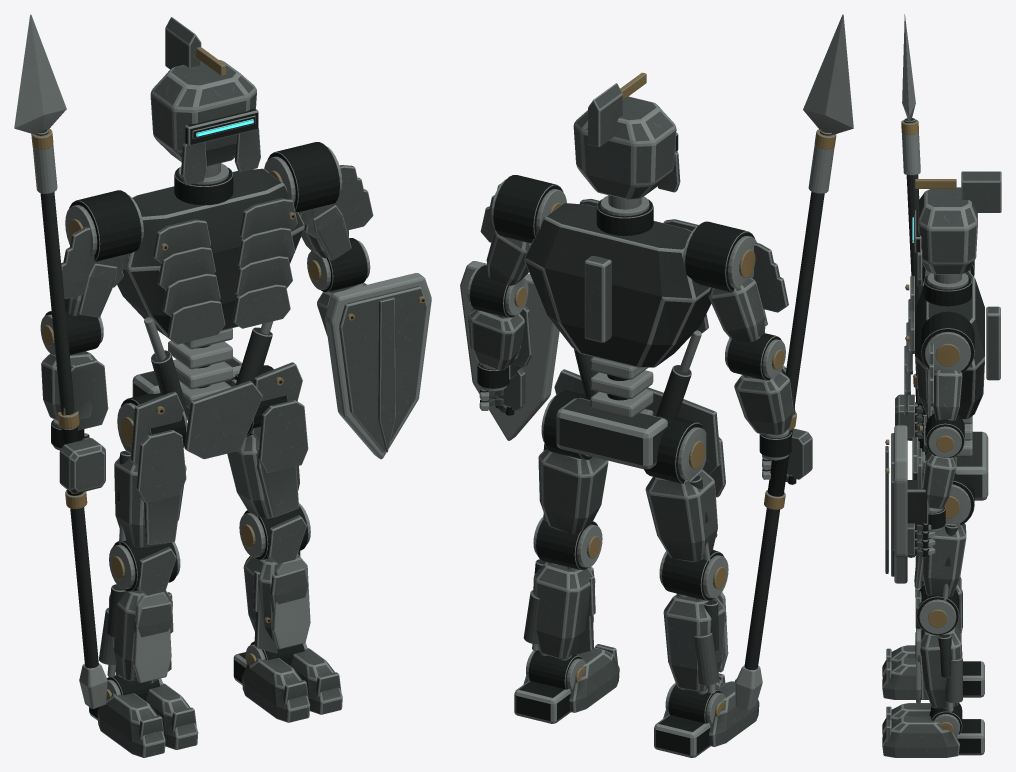
File: speed-t4-legion.glb
The picture shows the model from 3 angles, left to right: view 1: azimuth 30°, elevation 25°; view 2: azimuth 150°, elevation 25°; view 3: azimuth 270°, elevation 25°; orthographic projection. The views are drawn at different scales.
Visible parts, largest first — view 1: chest__clay, weaponR__metal, chest__metal, shieldL__clay, head__clay, pelvis__metal, pelvis__clay, hipR__clay, hipL__clay, ankleL__clay, ankleR__clay, kneeR__clay (+15 smaller); view 2: chest__metal, pelvis__metal, weaponR__metal, head__clay, kneeL__clay, hipR__clay, shieldL__metal, kneeR__clay, hipL__clay, shoulderR__clay, shoulderR__metal, ankleL__metal (+18 smaller); view 3: head__clay, chest__metal, ankleL__clay, pelvis__metal, shieldL__metal, weaponR__metal, kneeL__clay, shoulderL__metal, kneeL__metal, hipL__clay, chest__clay, shoulderL__clay (+14 smaller).
Boxes of the visible parts, <box> form: chest__clay: <box>153,198,297,344</box>; weaponR__metal: <box>14,14,107,708</box>; chest__metal: <box>117,163,304,337</box>; shieldL__clay: <box>339,286,427,452</box>; head__clay: <box>150,17,260,185</box>; pelvis__metal: <box>117,317,287,452</box>; pelvis__clay: <box>130,362,302,468</box>; hipR__clay: <box>114,430,186,547</box>; hipL__clay: <box>227,400,308,518</box>; ankleL__clay: <box>242,648,342,722</box>; ankleR__clay: <box>97,683,198,757</box>; kneeR__clay: <box>99,547,176,683</box>; chest__metal: <box>524,195,711,367</box>; pelvis__metal: <box>541,330,706,483</box>; weaponR__metal: <box>735,14,853,710</box>; head__clay: <box>573,83,680,199</box>; kneeL__clay: <box>523,562,595,658</box>; hipR__clay: <box>645,437,725,561</box>; shieldL__metal: <box>460,261,559,440</box>; kneeR__clay: <box>663,549,726,691</box>; hipL__clay: <box>538,449,608,533</box>; shoulderR__clay: <box>708,242,788,341</box>; shoulderR__metal: <box>683,221,760,338</box>; ankleL__metal: <box>514,650,585,723</box>; head__clay: <box>917,171,1001,286</box>; chest__metal: <box>905,271,984,419</box>; ankleL__clay: <box>882,703,959,757</box>; pelvis__metal: <box>919,406,988,525</box>; shieldL__metal: <box>885,425,929,583</box>; weaponR__metal: <box>901,14,923,448</box>; kneeL__clay: <box>915,591,962,708</box>; shoulderL__metal: <box>921,311,974,420</box>; kneeL__metal: <box>916,585,959,712</box>; hipL__clay: <box>914,523,966,596</box>; chest__clay: <box>904,275,1000,415</box>; shoulderL__clay: <box>927,343,962,420</box>.
Bounding box in the file's own units: 2.89 × 5.14 × 0.8889.
10 materials, 9 textured.
